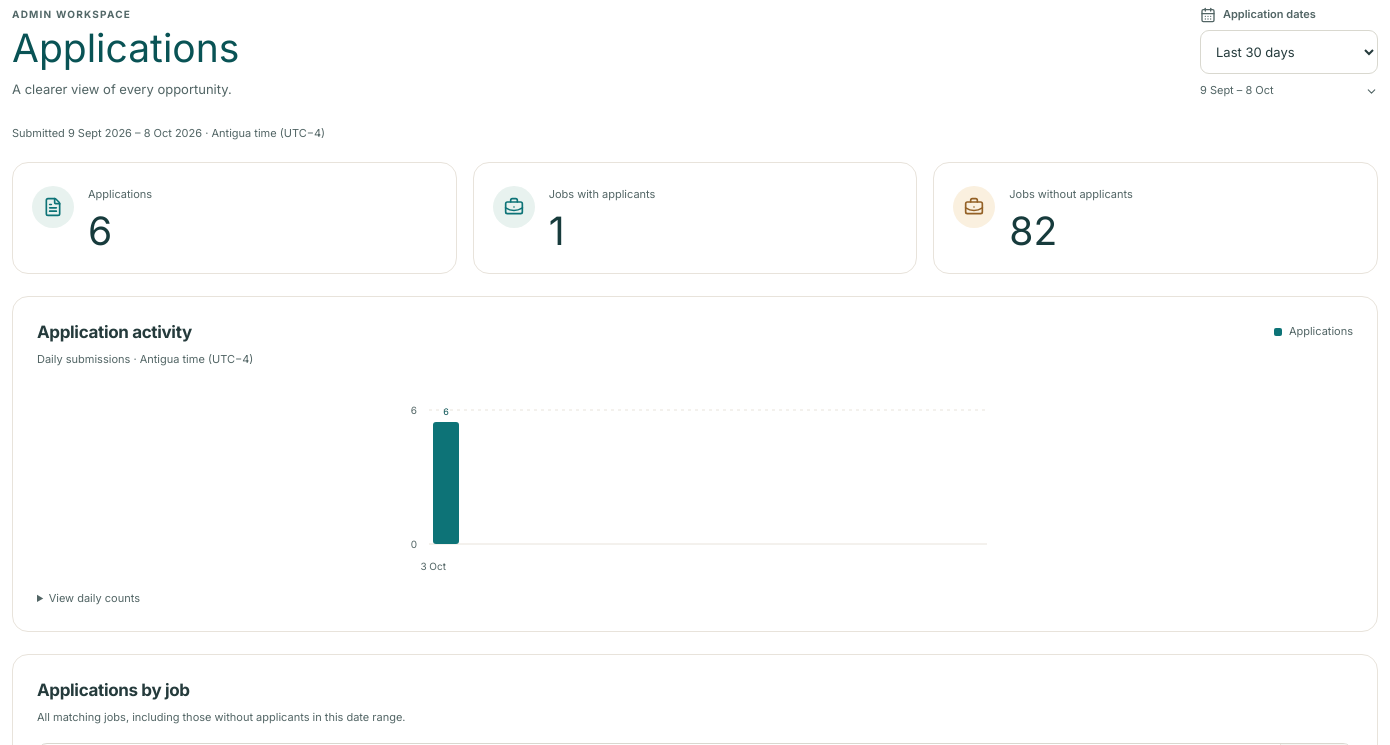
Test: Applications workspace URL state › uses the provided Antigua date scope and preserves other filters through presets and custom dates
Select "Last 7 days" in the dropdown labelled "Application dates" at (1289, 52), box [1200,30,1378,74]
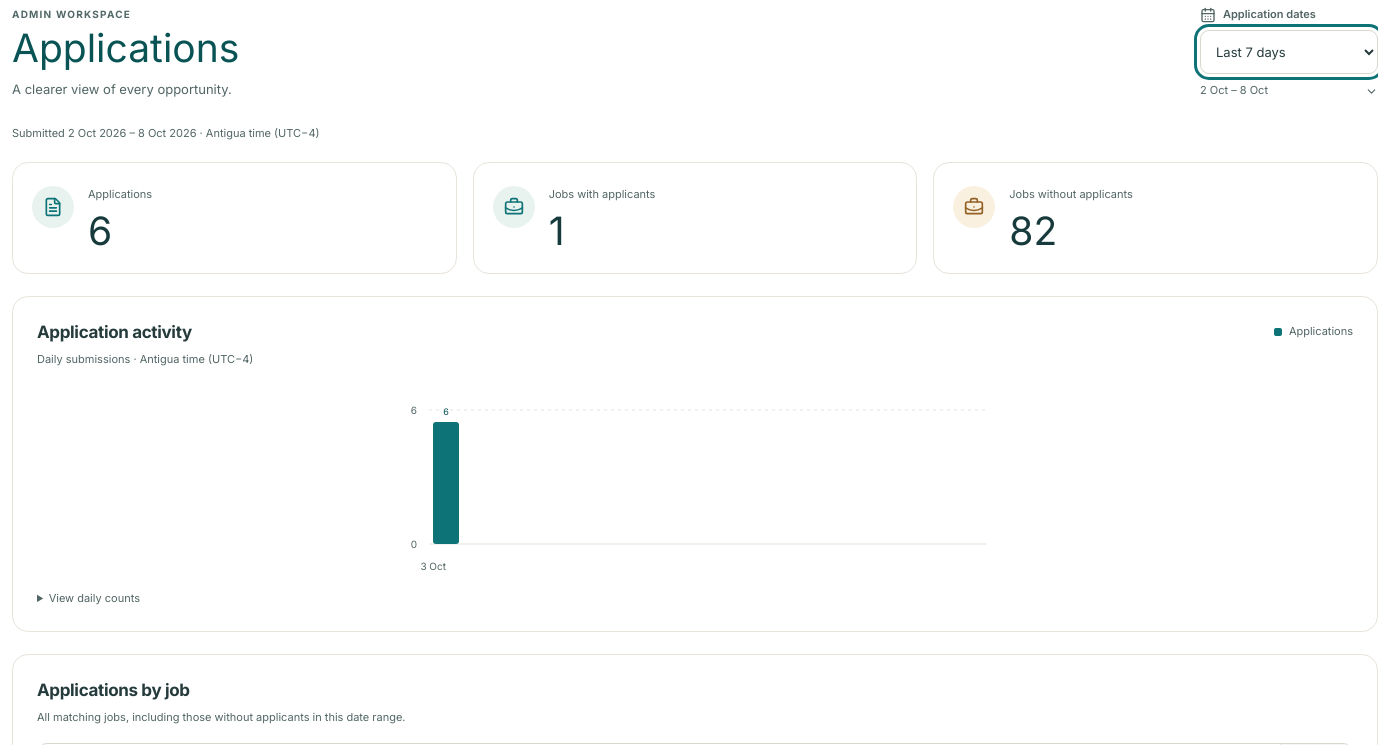
Select "Custom dates" in the dropdown labelled "Application dates" at (1289, 52), box [1200,30,1378,74]
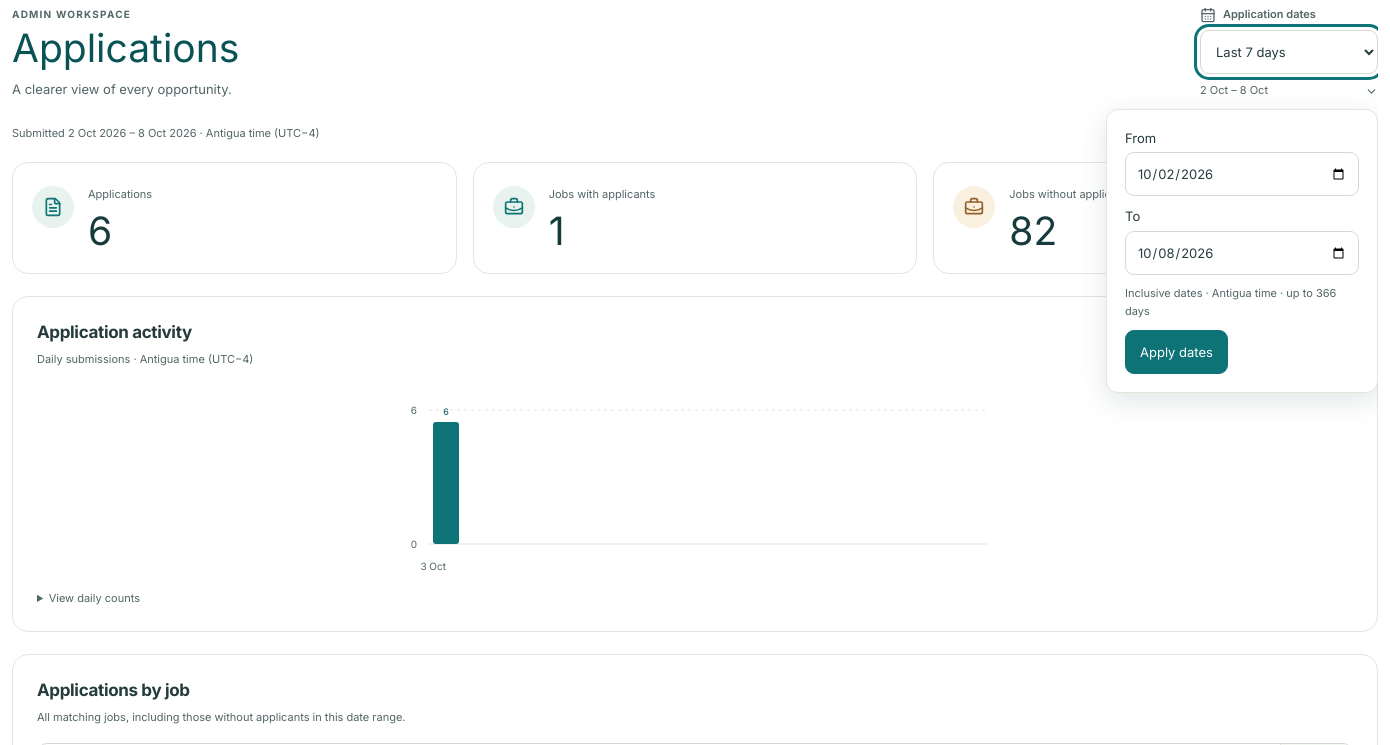
Type "2026-09-01" into the date field labelled "From" at (1242, 174), box [1125,152,1359,196]
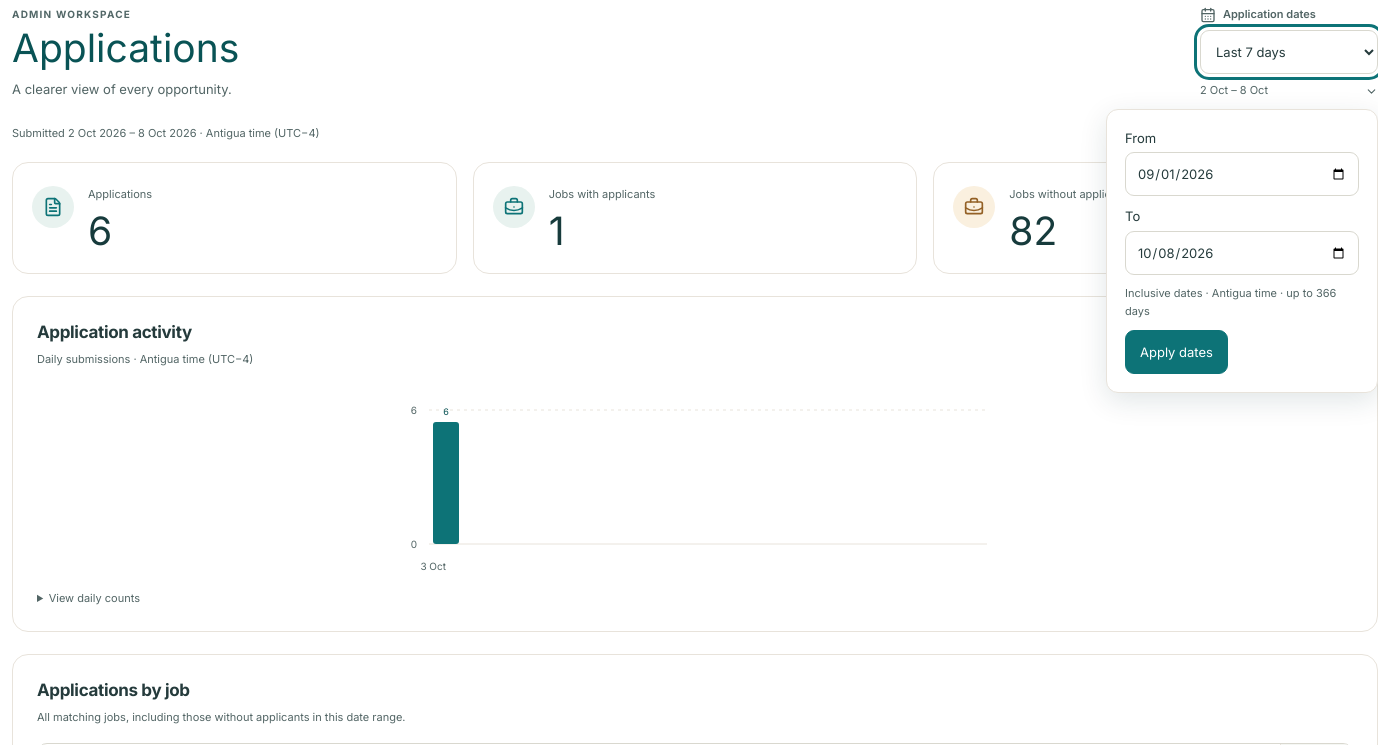
Type "2026-09-14" into the date field labelled "To" at (1242, 253), box [1125,231,1359,275]
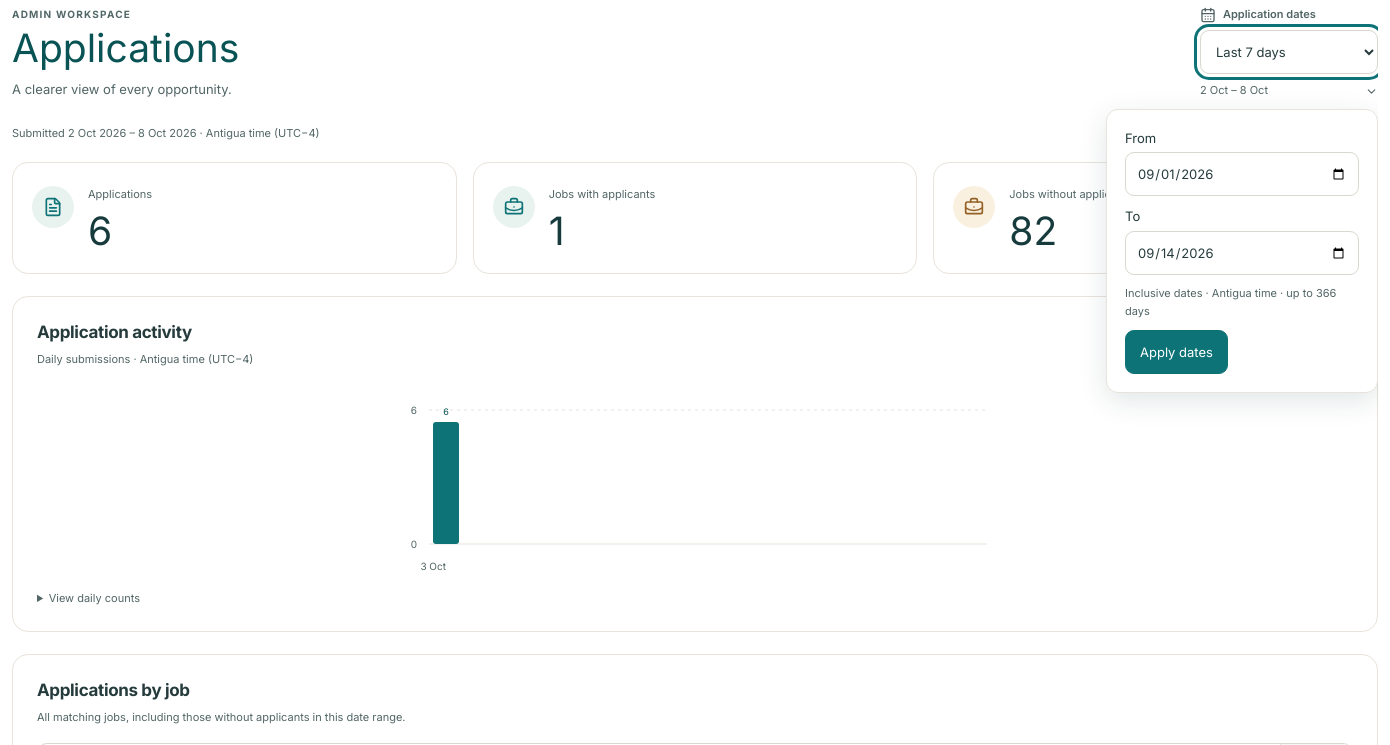
Click the button "Apply dates" at (1176, 352), box [1125,330,1228,374]
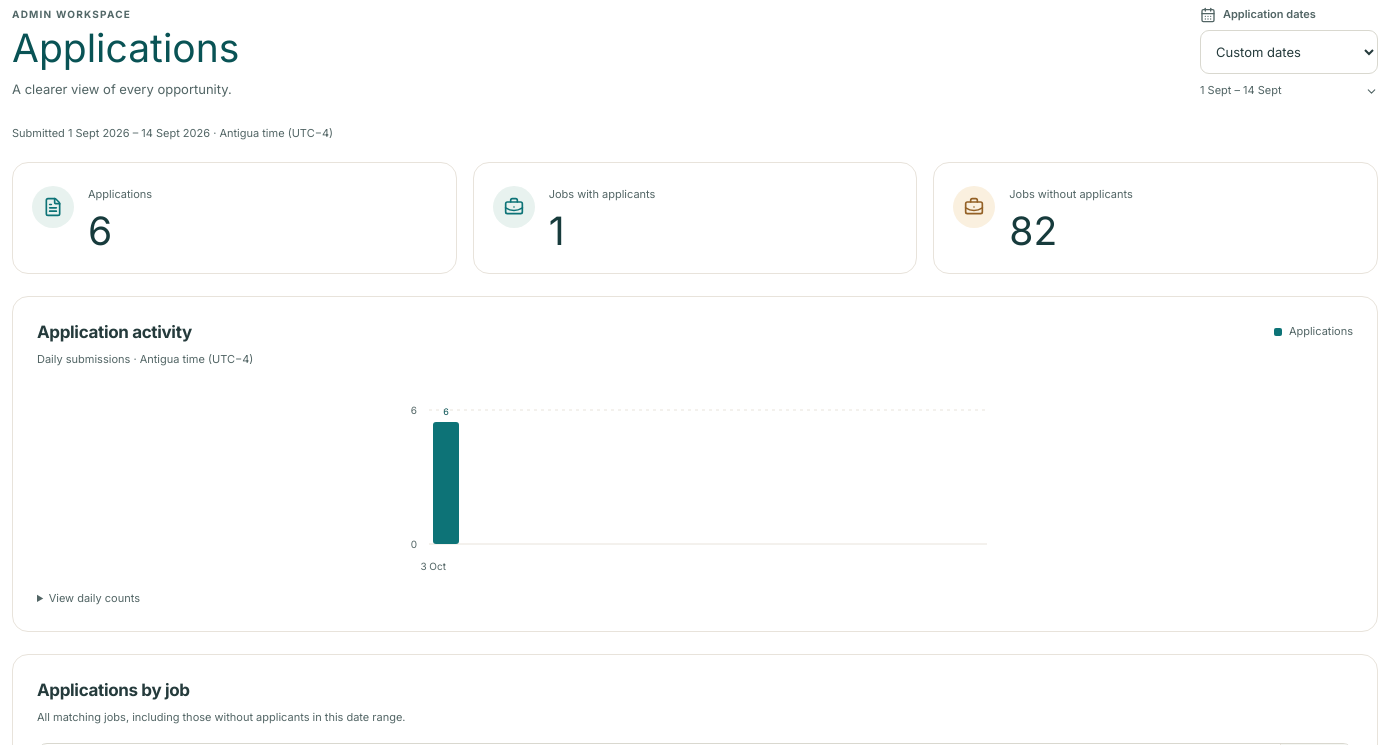
Result: the text "Submitted 1 Sept 2026 – 14 Sept 2026 · Antigua time (UTC−4)" is shown at [12,126,333,140]
